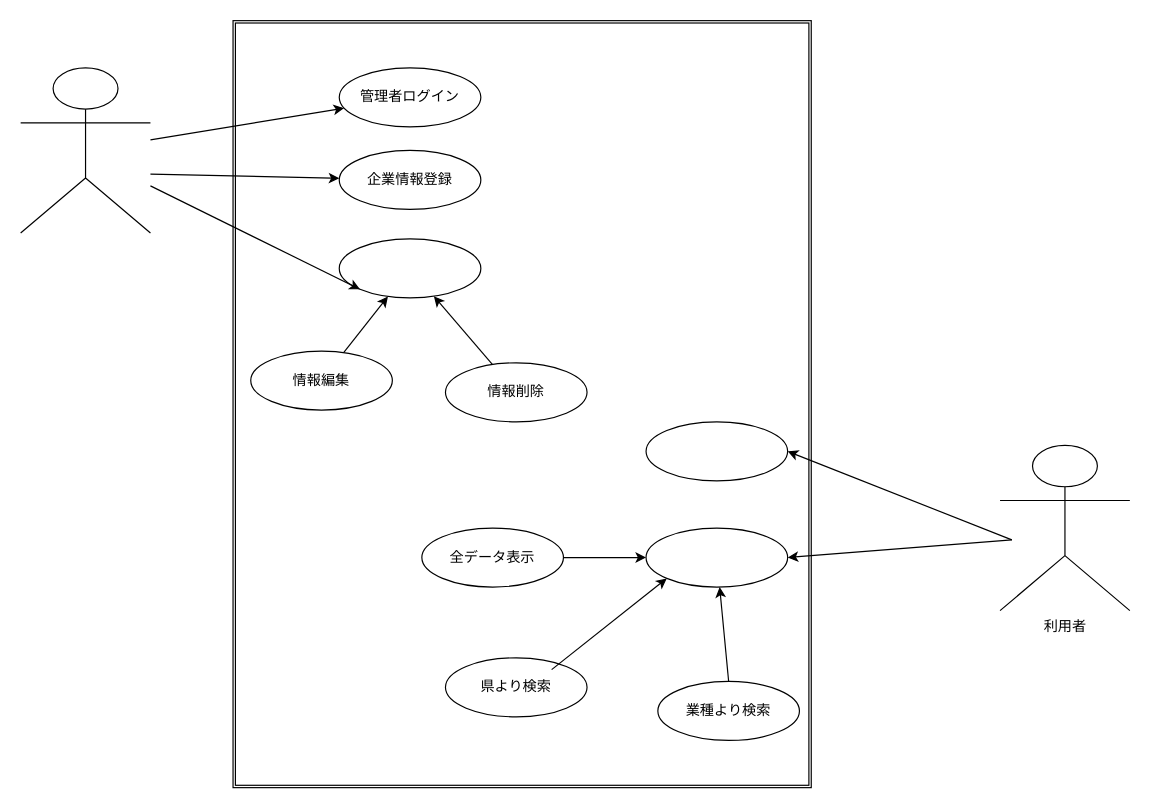
The diagram is 1151 pixels wide and 808 high, and some of its shapes have lost their labels. Here are the shapes that lost their labels. From the top down, the box of each, then its label:
(19, 67, 150, 233): 管理者
(338, 238, 481, 298): 企業情報保守
(645, 421, 788, 481): 利用者ログイン
(645, 527, 788, 587): 企業情報検索
